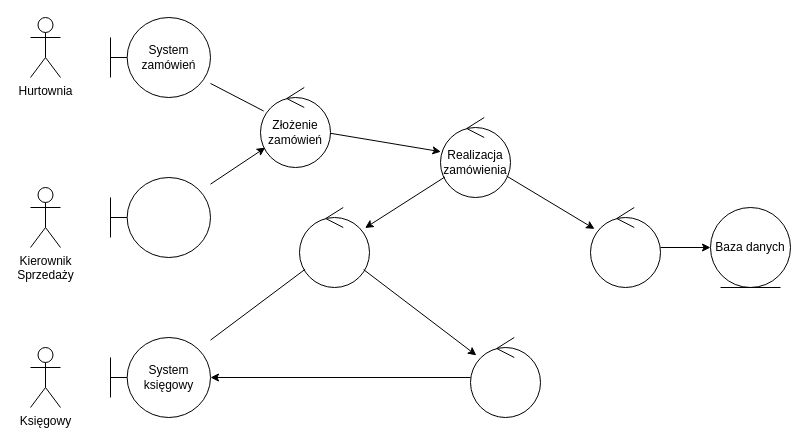
This 808x446 diagram has some shape labels left out. The centre of each missing label's shape, as x and y in pixels:
"Lista obiektów do zakupu" goes at point 160,217.
"Opłacenie zakupionych obiektów" goes at point 505,377.
"Rejestracja zakupionych obiektów" goes at point 625,247.
"Wydanie faktury" goes at point 334,247.
